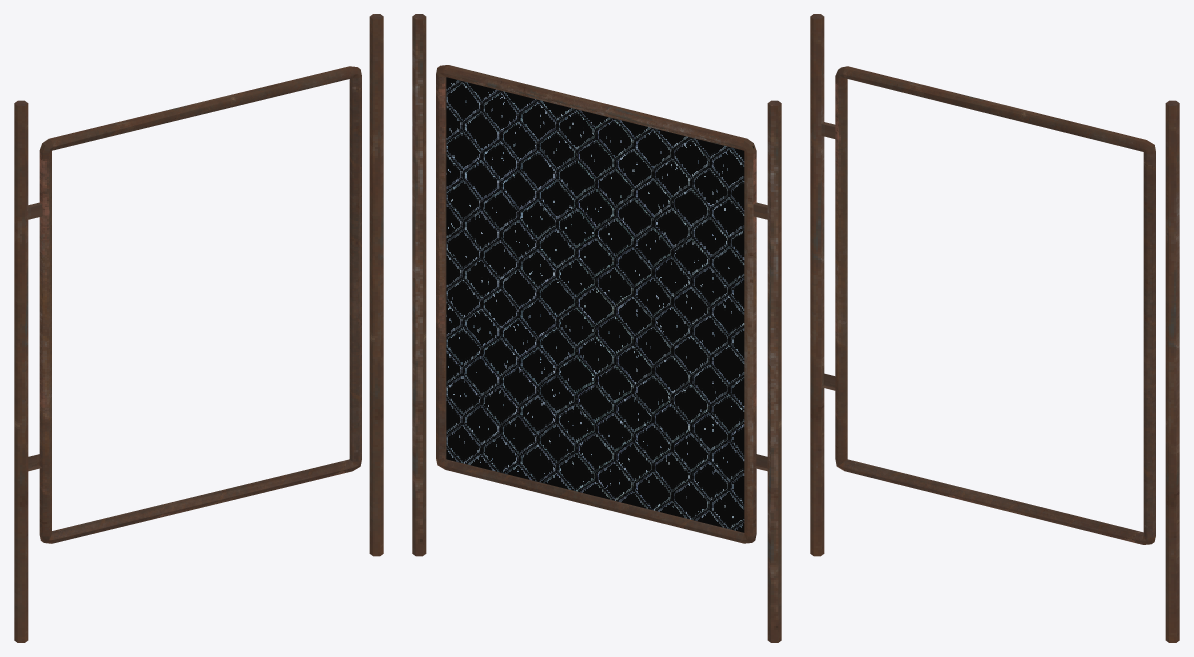
File: hang-rao.glb
3 views of the same model, side by side, from view 1: azimuth 30°, elevation 25°; view 2: azimuth 150°, elevation 25°; view 3: azimuth 330°, elevation 25° (orthographic).
Visible parts, largest first — view 1: hang-rao; view 2: hang-rao; view 3: hang-rao.
Part boxes in pixels (<box>): hang-rao: <box>14,14,383,642</box>; hang-rao: <box>412,14,781,642</box>; hang-rao: <box>810,14,1179,642</box>.
Bounding box in the file's own units: 3.57 × 5 × 0.1291.
Materials: 2 (2 with a texture image).
